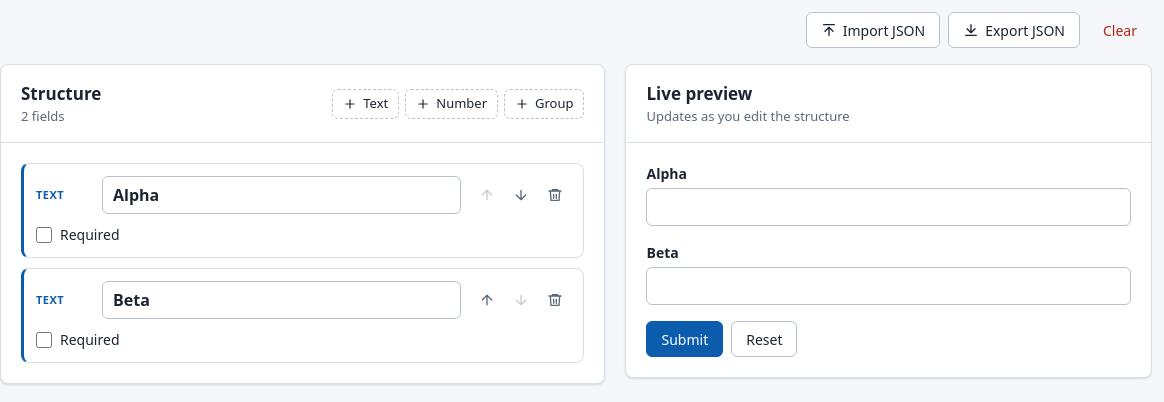
Test: ConfigurableFormBuilder › reorders fields within a group and deletes fields
Expected: the button named "Move \"Alpha\" up" is disabled, [472,179,504,211]
Click the button named "Move \"Beta\" up" at x=488, y=300, box [472,284,504,316]
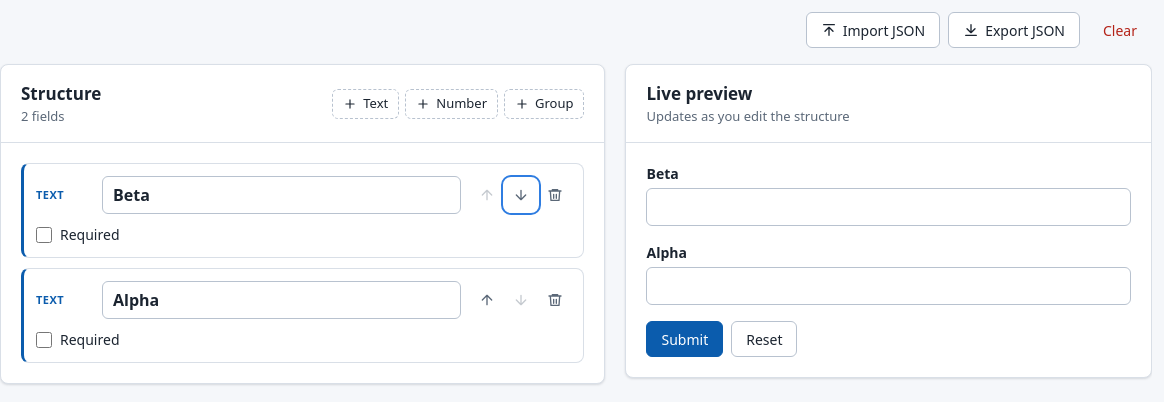
Click the button named "Delete \"Alpha\"" at x=556, y=300, box [540,284,572,316]
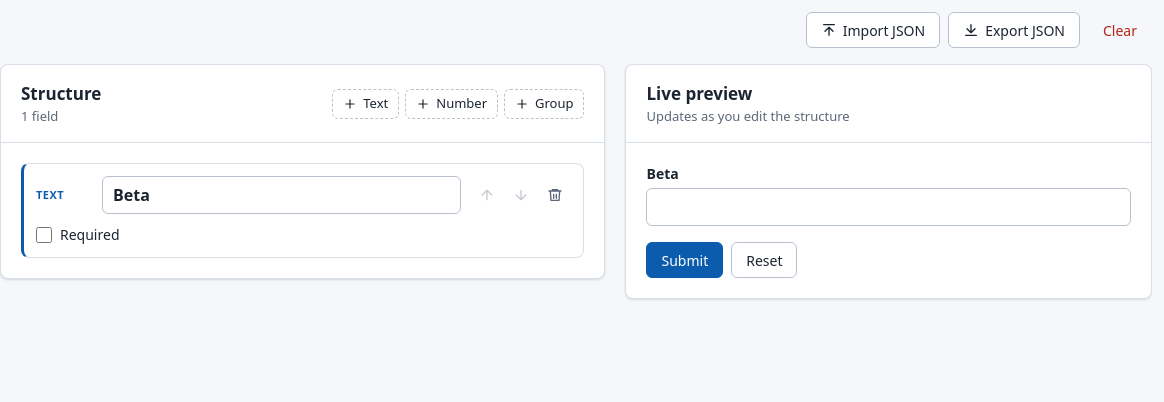
Result: the label labelled "Alpha" is gone
